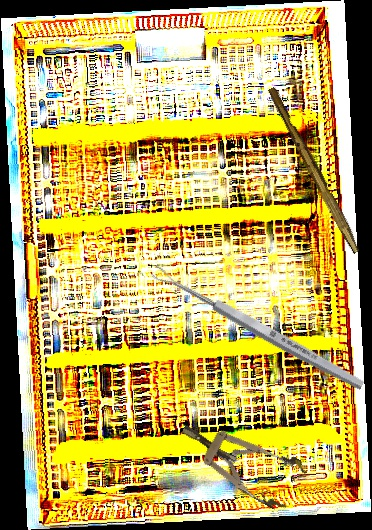Scalpel Handle: (263, 85, 366, 255)
Speculum: (170, 403, 311, 515)
Surgical Spoon: (150, 263, 366, 393)
